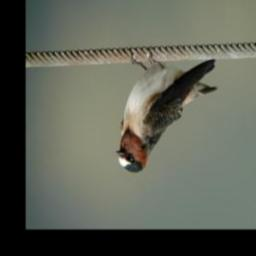Swallow: (113, 51, 220, 180)
